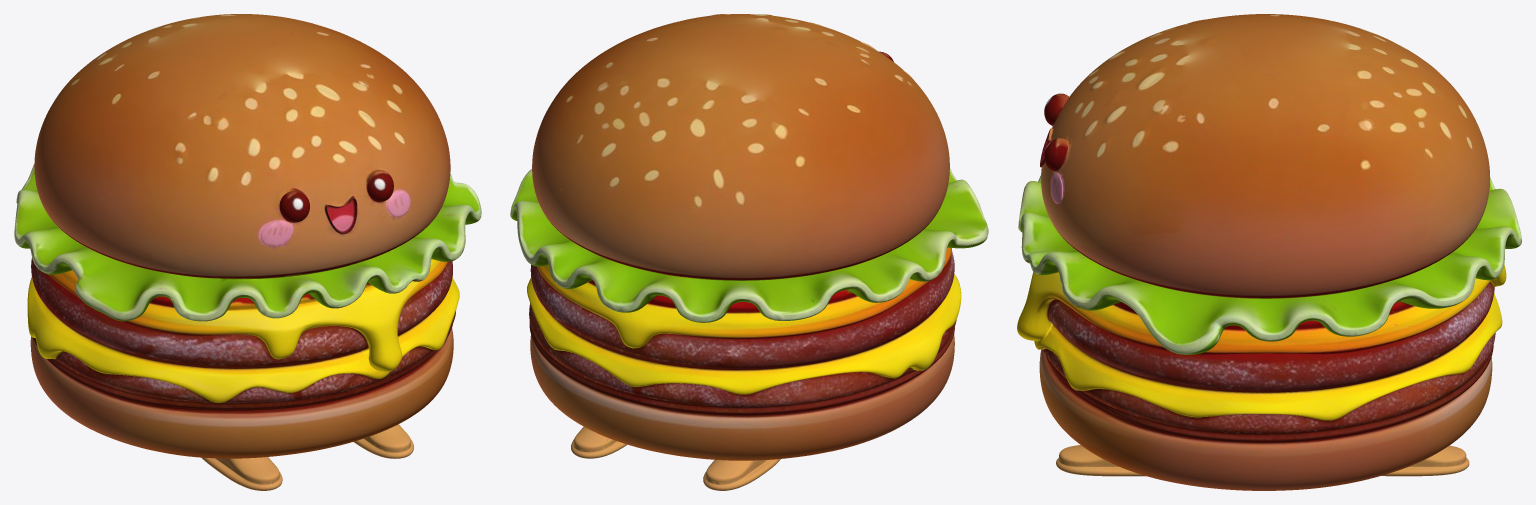
Rendered from beef_double_cheese.glb.
The picture shows the model from 3 angles, left to right: view 1: azimuth 30°, elevation 25°; view 2: azimuth 150°, elevation 25°; view 3: azimuth 270°, elevation 25°; orthographic projection. The views are drawn at different scales.
Parts seen in each view (by area): view 1: node_0; view 2: node_0; view 3: node_0.
Part boxes in pixels (x1,y1,x2,y2): node_0: [14, 14, 481, 490]; node_0: [510, 14, 988, 490]; node_0: [1017, 14, 1521, 490].
Bounding box in the file's own units: 0.9661 × 0.8221 × 0.9628.
1 material, 1 textured.
